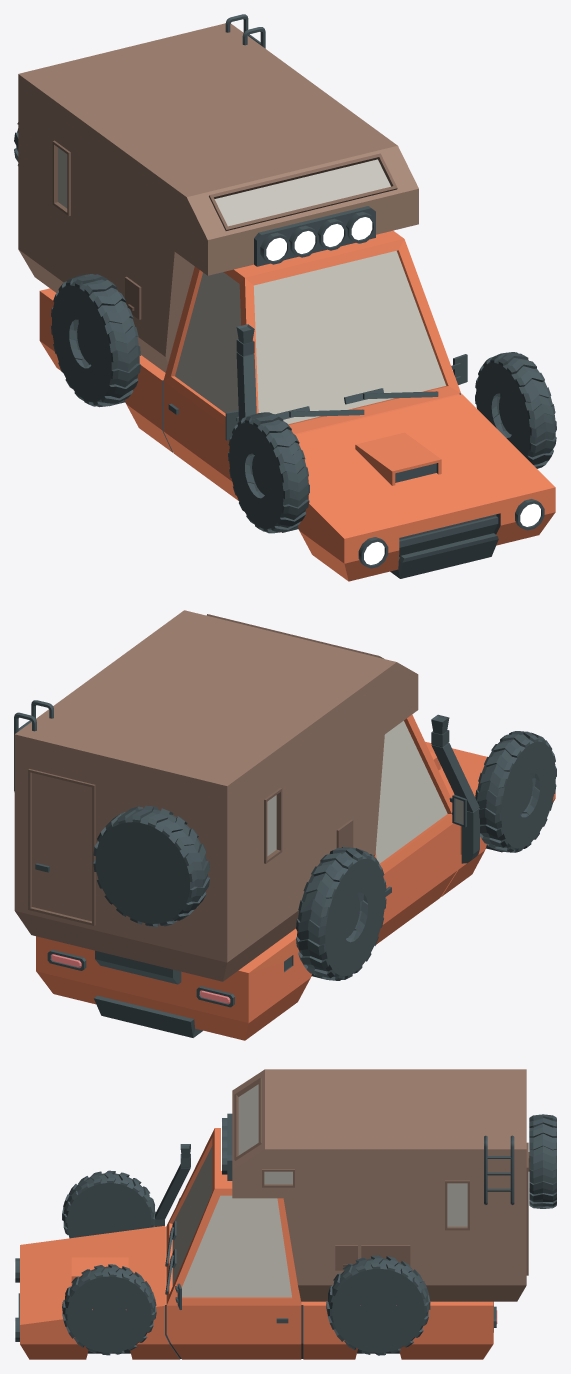
Rendered from car.glb.
3 renders of one model, top to bottom at view 1: azimuth 30°, elevation 25°; view 2: azimuth 150°, elevation 25°; view 3: azimuth 270°, elevation 25°, orthographic. The views are drawn at different scales.
Parts seen in each view (by area): view 1: Chassis, Wheel_RR, Wheel_FR, Wheel_FL; view 2: Chassis, Wheel_RR, Wheel_FR; view 3: Chassis, Wheel_RL, Wheel_FL, Wheel_FR.
Part boxes in pixels (x1,y1,x2,y2): Chassis: (14,14,555,581); Wheel_RR: (51,274,140,407); Wheel_FR: (228,412,309,533); Wheel_FL: (475,352,556,468); Chassis: (14,610,555,1040); Wheel_RR: (296,847,386,980); Wheel_FR: (475,731,556,852); Chassis: (14,1069,556,1359); Wheel_RL: (326,1255,430,1355); Wheel_FL: (62,1264,156,1355); Wheel_FR: (62,1170,155,1238).
Size of the model in its own units: 2.6 by 2.69 by 5.73.
